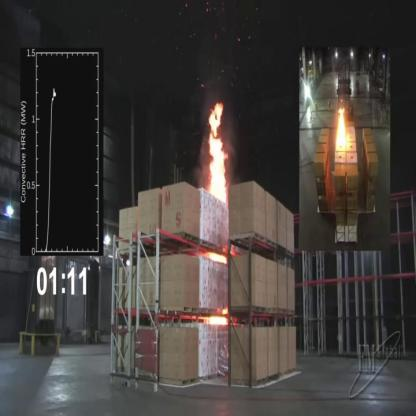fire: (205, 99, 231, 212)
